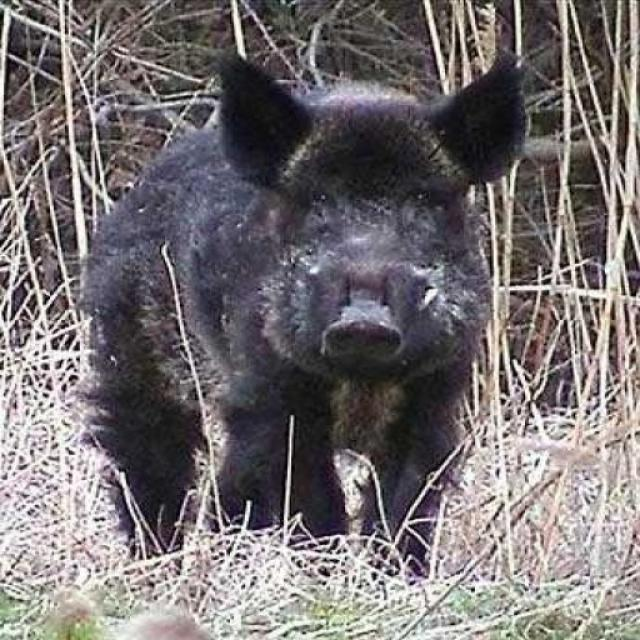pig: (79, 21, 579, 541)
